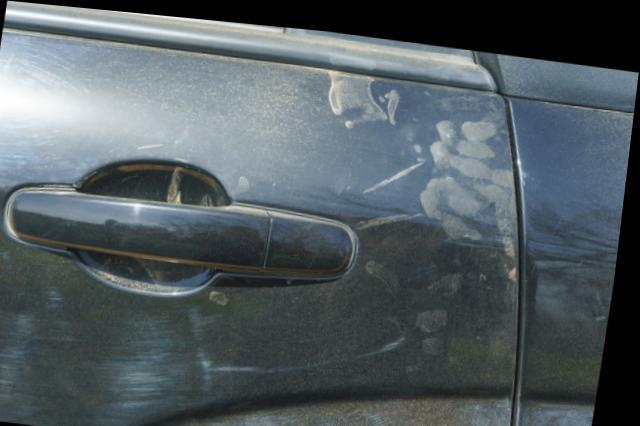scratch: (0, 295, 420, 426)
